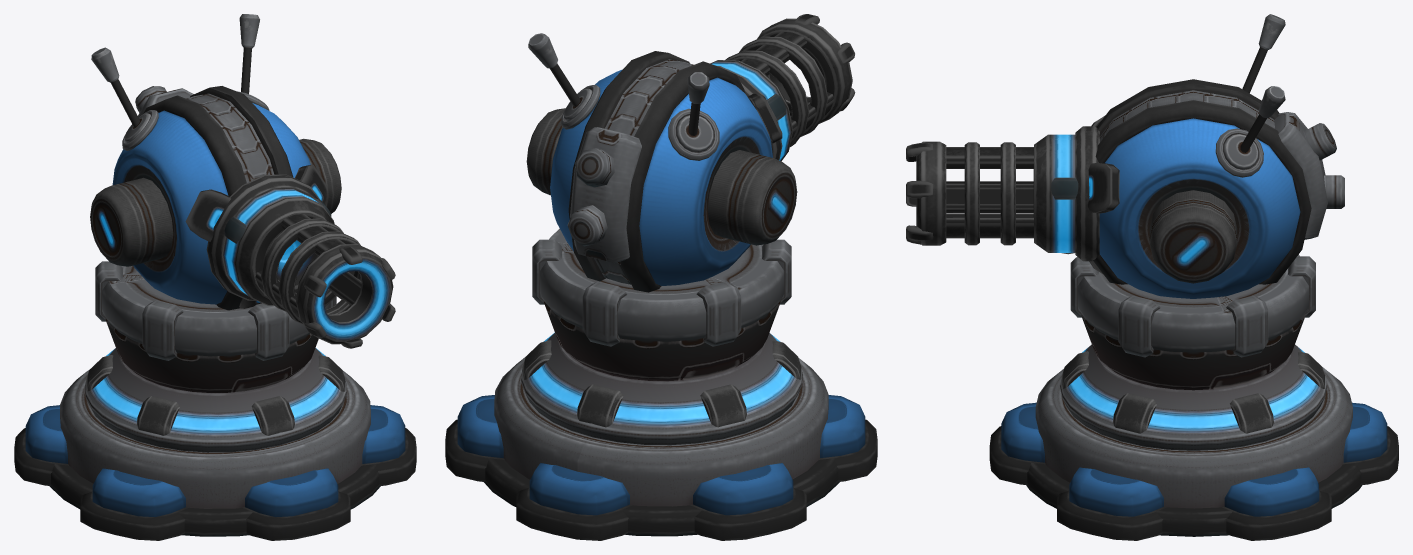
File: Laser_Blue_2.gltf
3 views of the same model, side by side, from view 1: azimuth 30°, elevation 25°; view 2: azimuth 150°, elevation 25°; view 3: azimuth 270°, elevation 25° (orthographic). The views are drawn at different scales.
Parts seen in each view (by area): view 1: l3_base, l3_main, l3_mid, l3_barrel, l3_connector; view 2: l3_main, l3_base, l3_mid, l3_connector, l3_barrel; view 3: l3_main, l3_base, l3_mid, l3_barrel, l3_connector.
Part boxes in pixels (x1,y1,x2,y2): l3_base: (14, 370, 416, 540); l3_main: (90, 14, 341, 310); l3_mid: (85, 319, 346, 452); l3_barrel: (185, 164, 395, 348); l3_connector: (95, 261, 336, 360); l3_main: (526, 33, 797, 292); l3_base: (445, 357, 877, 540); l3_mid: (521, 301, 802, 445); l3_connector: (532, 228, 791, 346); l3_barrel: (710, 14, 855, 161); l3_main: (1093, 14, 1344, 298); l3_base: (989, 367, 1398, 540); l3_mid: (1060, 314, 1326, 450); l3_barrel: (906, 115, 1119, 274); l3_connector: (1070, 254, 1315, 357).
Bounding box in the file's own units: 0.5975 × 0.706 × 0.7682.
Materials: 1 (1 with a texture image).
